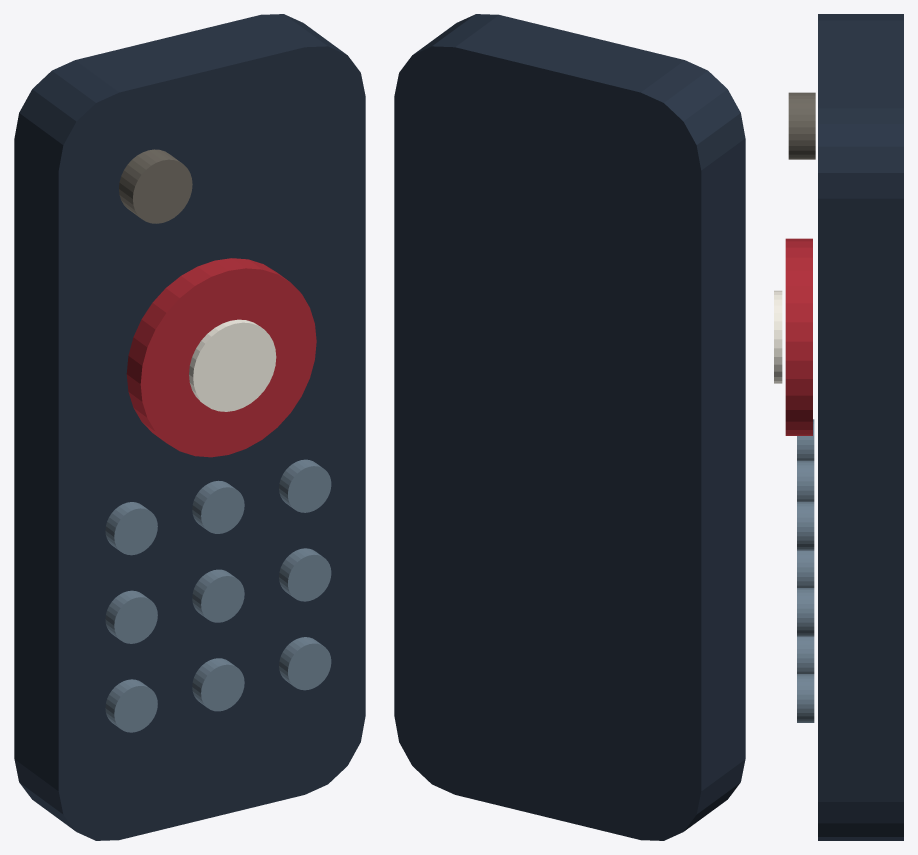
File: remote.glb
3 renders of one model, left to right at view 1: azimuth 30°, elevation 25°; view 2: azimuth 150°, elevation 25°; view 3: azimuth 270°, elevation 25°, orthographic. The views are drawn at different scales.
Visible parts, largest first — view 1: housing, direction ring, ok button, power key, key 1-2, key 0-2, key 1-1, key 0-1, key 2-1, key 0-0, key 2-0, key 1-0 (+1 smaller); view 2: housing; view 3: housing, direction ring, power key, key 2-0, key 2-1, key 2-2, ok button, key 1-0, key 1-1, key 1-2, key 0-0.
Part boxes in pixels (x1,y1,x2,y2): housing: (14,14,365,840); direction ring: (126,258,316,457); ok button: (189,319,276,411); power key: (119,149,192,223); key 1-2: (192,658,244,711); key 0-2: (105,679,157,732); key 1-1: (192,569,244,622); key 0-1: (105,590,157,643); key 2-1: (279,548,331,601); key 0-0: (105,502,157,555); key 2-0: (279,459,331,512); key 1-0: (192,480,244,533); housing: (394,14,745,840); housing: (818,14,903,840); direction ring: (785,238,812,435); power key: (788,92,815,159); key 2-0: (797,501,814,550); key 2-1: (797,588,814,636); key 2-2: (797,674,814,722); ok button: (774,290,782,383); key 1-0: (797,460,814,501); key 1-1: (797,550,814,587); key 1-2: (797,636,814,673); key 0-0: (797,419,814,460).
Size of the model in its own units: 0.76 by 1.77 by 0.287.
